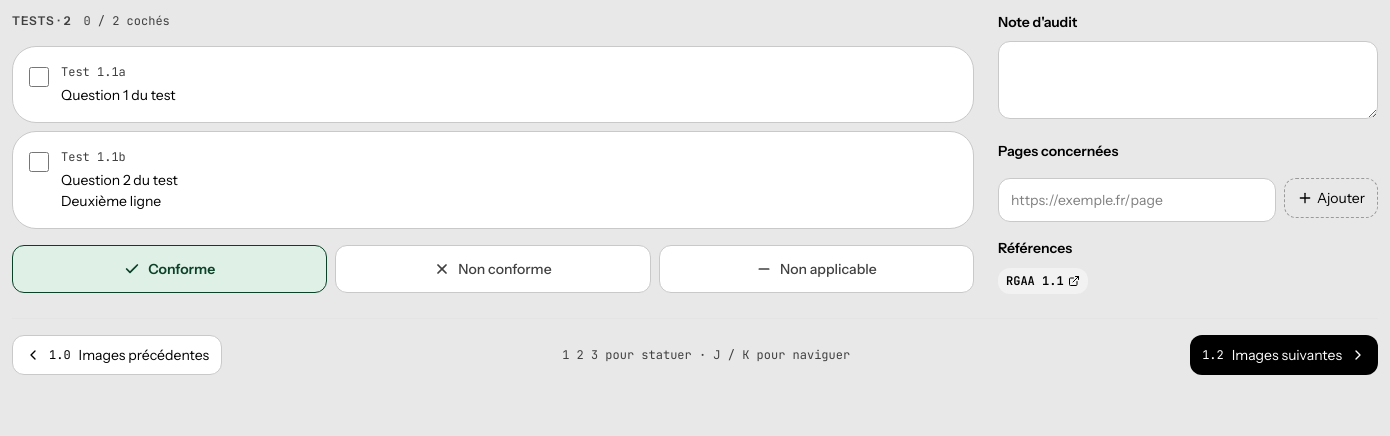
Scenario: CriteriaDetail › Pages concernées › efface le message d'erreur dès que la saisie reprend
In the field named "Adresse de la page à ajouter": (1137, 200) 998,178 -> 1276,222, type "javascript:alert(1)"
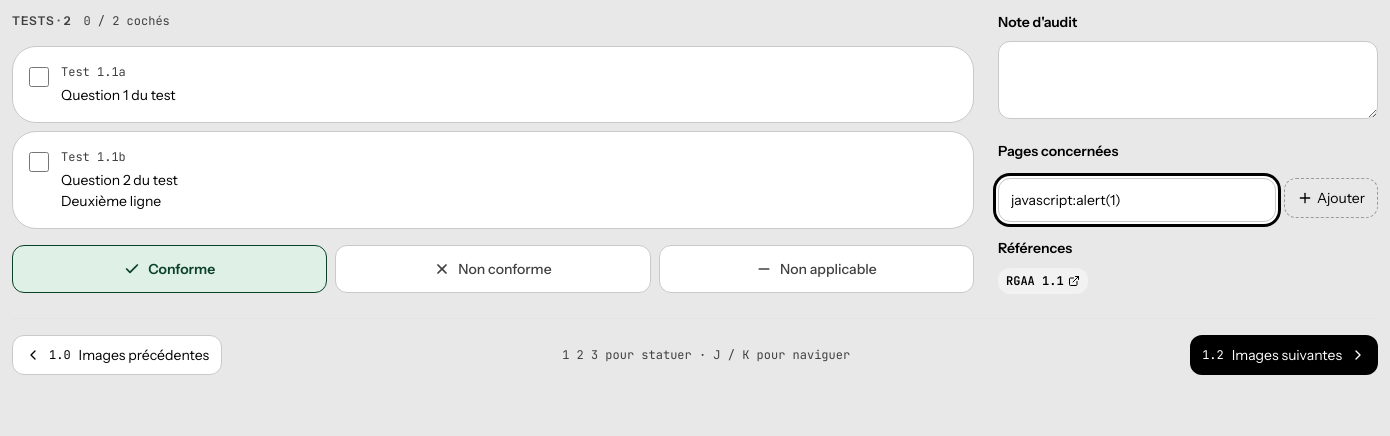
Click the button "Ajouter": (1331, 198) 1284,178 -> 1378,218
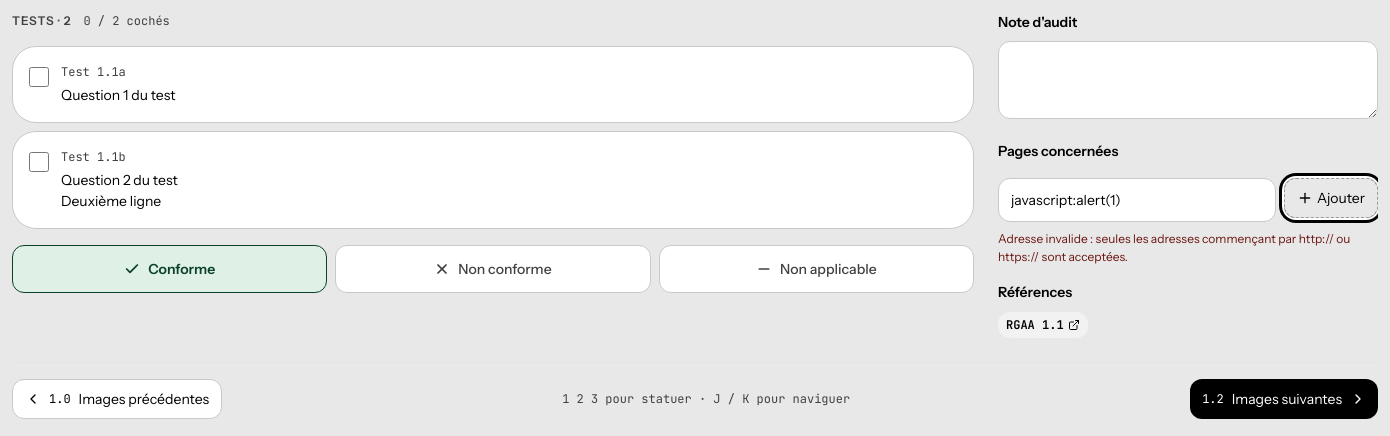
expect the message is shown: met, box 998,230 -> 1378,266
In the field named "Adresse de la page à ajouter": (1137, 200) 998,178 -> 1276,222, type "x"
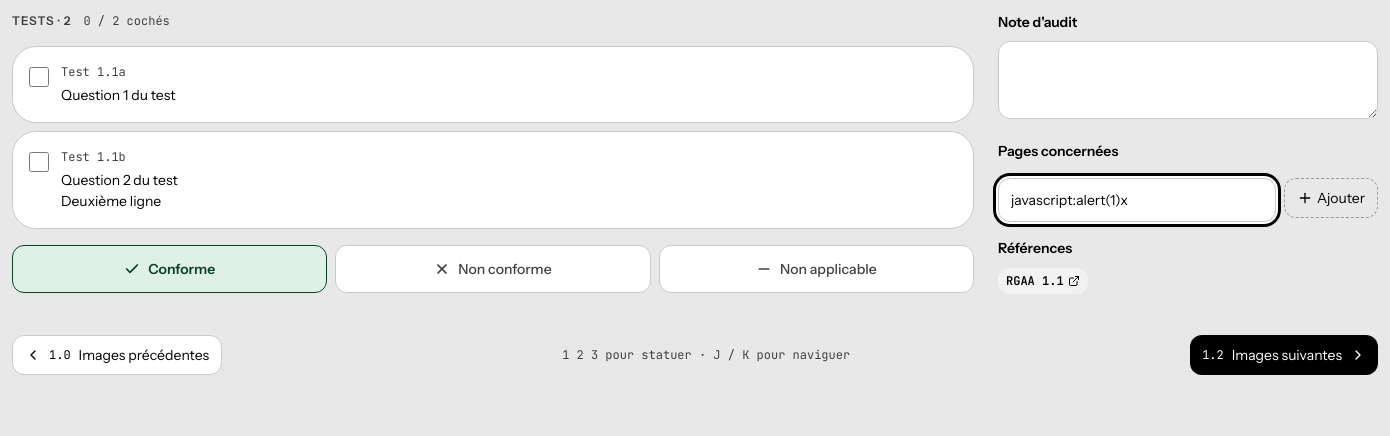
expect the message is gone: met
